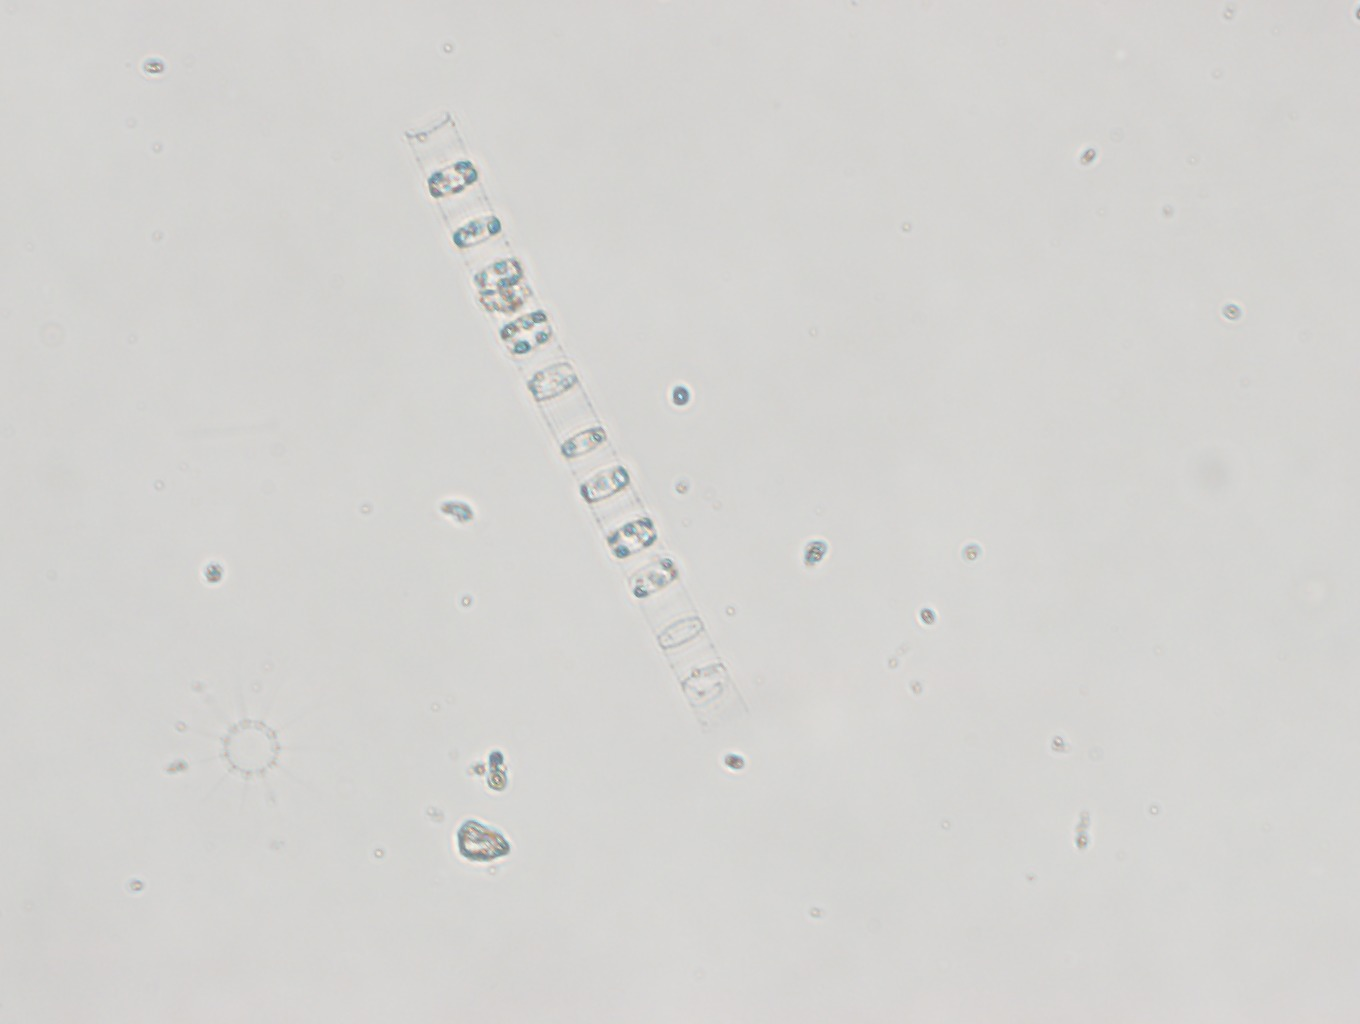bacteriastrum: (174, 662, 335, 830)
skeletonema: (402, 111, 750, 726)
